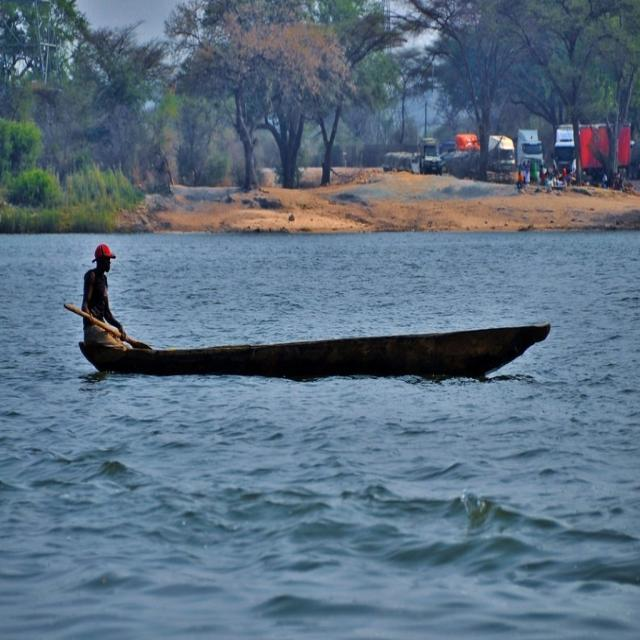boat: (75, 326, 555, 380)
